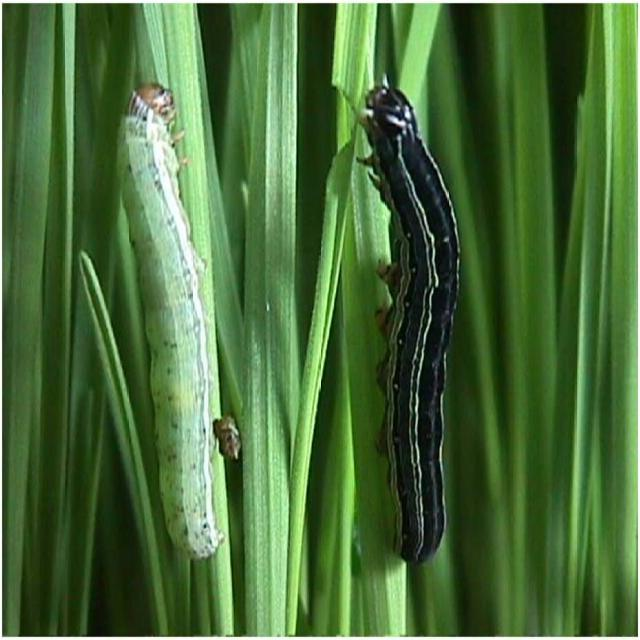pest-armyworm: (117, 79, 239, 564), (356, 77, 470, 577)
